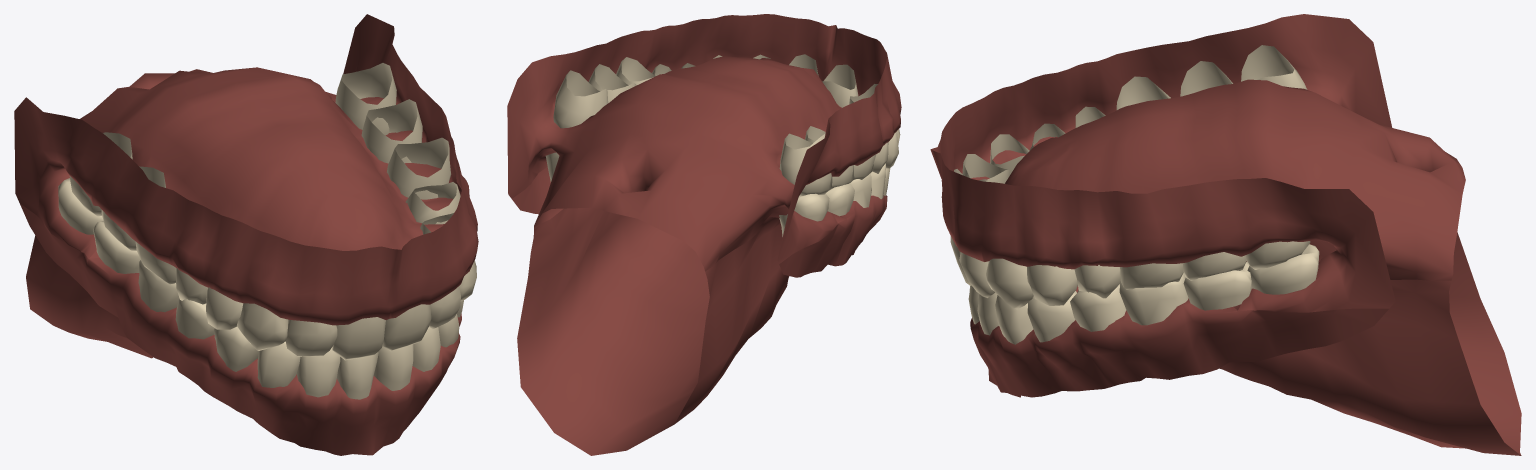
Rendered from dentaphone-chomper.glb.
3 views of the same model, side by side, from view 1: azimuth 30°, elevation 25°; view 2: azimuth 150°, elevation 25°; view 3: azimuth 270°, elevation 25° (orthographic). The views are drawn at different scales.
Visible parts, largest first — view 1: upper-gum, lower-gum, upper-16, upper-14, upper-15, upper-08, upper-06, upper-07, upper-09, lower-07, lower-06, lower-09 (+15 smaller); view 2: upper-gum, lower-gum, upper-16, upper-01, upper-08, lower-01, upper-15, lower-02, upper-14, upper-02, lower-03; view 3: upper-gum, lower-gum, lower-15, lower-16, lower-14, upper-01, lower-13, upper-11, upper-12, lower-12, upper-14, upper-15 (+9 smaller).
Part boxes in pixels (x1,y1,x2,y2): upper-gum: (14, 14, 478, 325); lower-gum: (20, 203, 461, 455); upper-16: (335, 63, 396, 135); upper-14: (387, 137, 451, 199); upper-15: (361, 99, 422, 163); upper-08: (332, 317, 385, 360); upper-06: (237, 303, 288, 350); upper-07: (285, 319, 337, 356); upper-09: (382, 304, 431, 350); lower-07: (296, 347, 340, 397); lower-06: (257, 341, 300, 387); lower-09: (373, 344, 413, 390); upper-gum: (507, 14, 901, 271); lower-gum: (512, 167, 887, 455); upper-16: (553, 70, 608, 128); upper-01: (779, 133, 832, 195); upper-08: (822, 64, 858, 107); lower-01: (779, 193, 829, 236); upper-15: (588, 64, 636, 102); lower-02: (826, 183, 854, 216); upper-14: (616, 57, 655, 85); upper-02: (805, 126, 854, 190); lower-03: (850, 174, 871, 207); upper-gum: (930, 14, 1465, 312); lower-gum: (970, 232, 1521, 455); lower-15: (1183, 262, 1251, 310); lower-16: (1247, 244, 1319, 294); lower-14: (1119, 273, 1188, 325); upper-01: (1241, 45, 1307, 89); lower-13: (1070, 284, 1126, 331); upper-11: (986, 258, 1033, 309); upper-12: (1027, 265, 1077, 305); lower-12: (1027, 291, 1076, 342); upper-14: (1120, 263, 1183, 289); upper-15: (1182, 252, 1246, 280).
Size of the model in its own units: 47.9 by 45.03 by 68.44.
